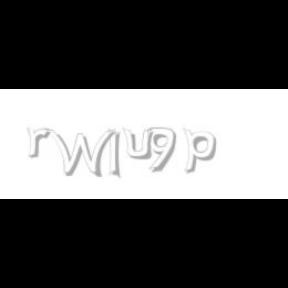9: (148, 128, 176, 172)
W: (44, 128, 116, 178)
l: (108, 128, 124, 180)
p: (183, 128, 220, 174)
r: (26, 128, 54, 158)
u: (122, 128, 158, 160)
